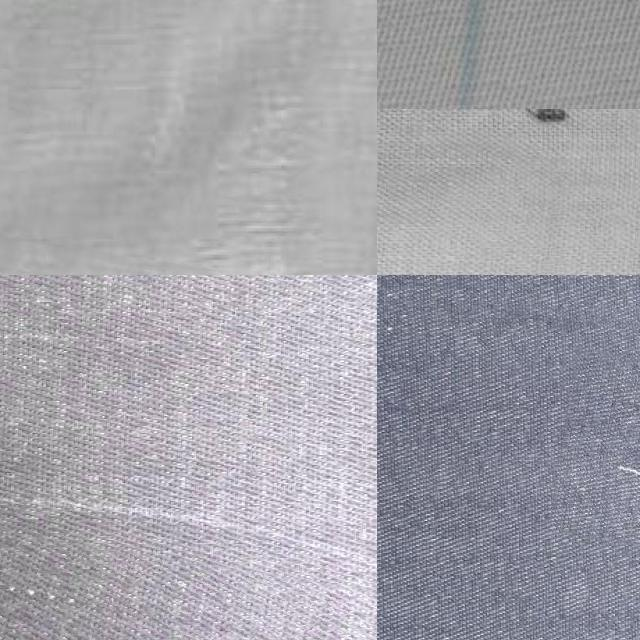Hole: (448, 109, 640, 185)
Thread_other: (0, 524, 377, 640), (553, 352, 640, 552)
